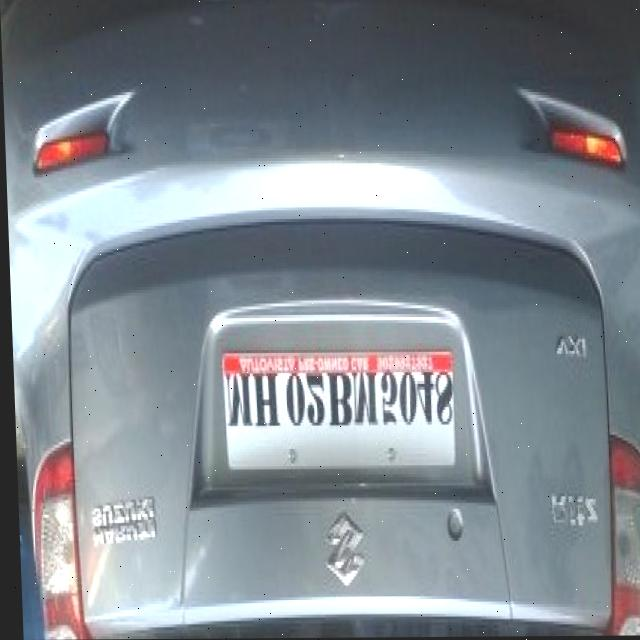plate: (222, 350, 453, 476)
